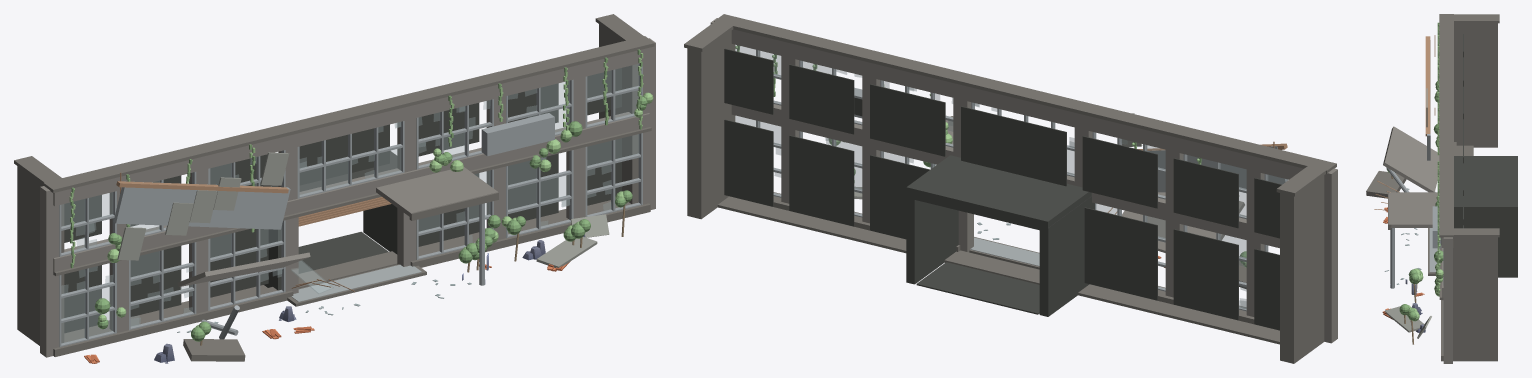
File: mall_facade.glb
The picture shows the model from 3 angles, left to right: view 1: azimuth 30°, elevation 25°; view 2: azimuth 150°, elevation 25°; view 3: azimuth 270°, elevation 25°; orthographic projection. The views are drawn at different scales.
Visible parts, largest first — view 1: mall_facade_body, keep_interior_backdrop.009, keep_interior_backdrop.001, keep_interior_backdrop.004, keep_interior_backdrop.002, keep_interior_backdrop.010, keep_interior_backdrop, keep_interior_backdrop.005, keep_interior_backdrop.003, mall_facade_tex, keep_interior_backdrop.011, keep_interior_backdrop.006 (+2 smaller); view 2: mall_facade_body, keep_interior_backdrop.009, keep_interior_backdrop.002, keep_interior_backdrop.001, keep_interior_backdrop.004, keep_interior_backdrop.010, keep_interior_backdrop.008, keep_interior_backdrop.005, keep_interior_backdrop.007, keep_interior_backdrop.011, keep_interior_backdrop.003, keep_interior_backdrop.012 (+2 smaller); view 3: mall_facade_body, mall_facade_tex.
Part boxes in pixels (x1,y1,x2,y2): mall_facade_body: [14, 14, 655, 361]; keep_interior_backdrop.009: [299, 124, 389, 185]; keep_interior_backdrop.001: [130, 246, 181, 316]; keep_interior_backdrop.004: [508, 153, 558, 220]; keep_interior_backdrop.002: [210, 228, 268, 297]; keep_interior_backdrop.010: [418, 103, 479, 156]; keep_interior_backdrop: [64, 265, 101, 332]; keep_interior_backdrop.005: [587, 138, 621, 205]; keep_interior_backdrop.003: [418, 173, 479, 246]; mall_facade_tex: [84, 234, 585, 363]; keep_interior_backdrop.011: [508, 83, 558, 122]; keep_interior_backdrop.006: [64, 195, 101, 242]; mall_facade_body: [684, 14, 1337, 363]; keep_interior_backdrop.009: [961, 106, 1066, 186]; keep_interior_backdrop.002: [1084, 207, 1157, 300]; keep_interior_backdrop.001: [1173, 229, 1238, 320]; keep_interior_backdrop.004: [789, 135, 854, 226]; keep_interior_backdrop.010: [870, 84, 945, 156]; keep_interior_backdrop.008: [1082, 136, 1157, 208]; keep_interior_backdrop.005: [724, 119, 773, 206]; keep_interior_backdrop.007: [1173, 158, 1238, 228]; keep_interior_backdrop.011: [789, 64, 854, 134]; keep_interior_backdrop.003: [870, 155, 929, 239]; keep_interior_backdrop.012: [724, 48, 773, 114]; mall_facade_body: [1366, 14, 1517, 363]; mall_facade_tex: [1382, 207, 1425, 332].
Size of the model in its own units: 30.7 by 8.47 by 8.78.
Materials: 24 (12 with a texture image).
